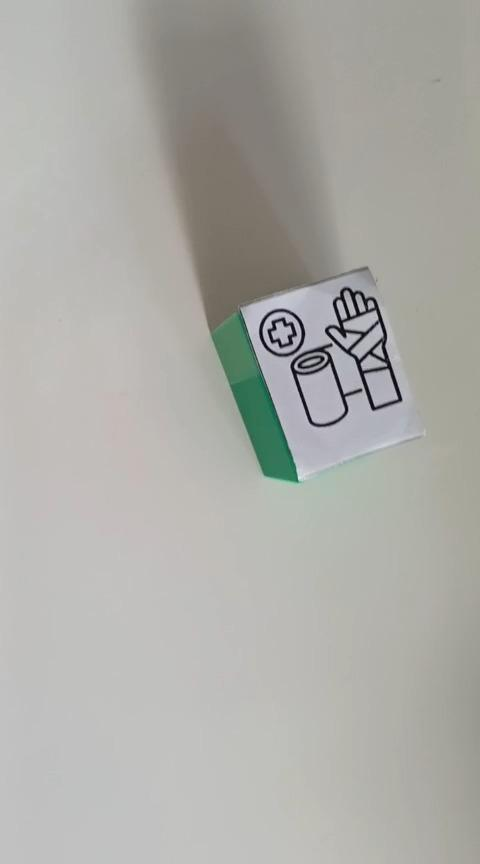Bandages: (209, 264, 425, 483)
